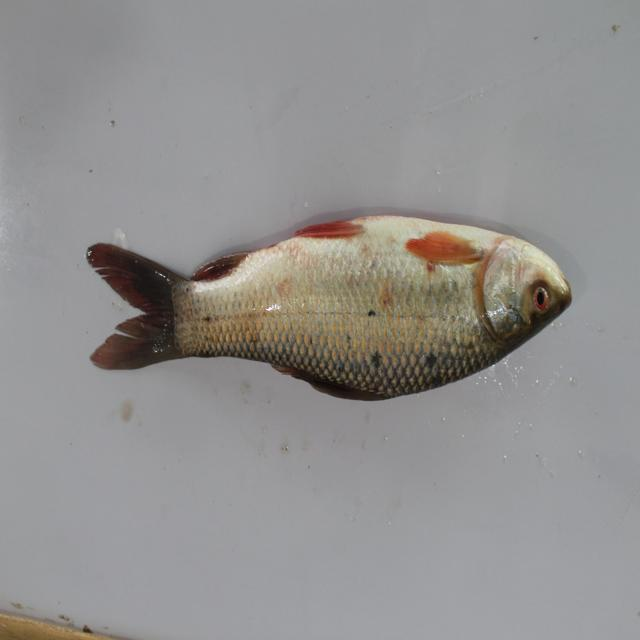Rohu: (71, 189, 589, 411)
